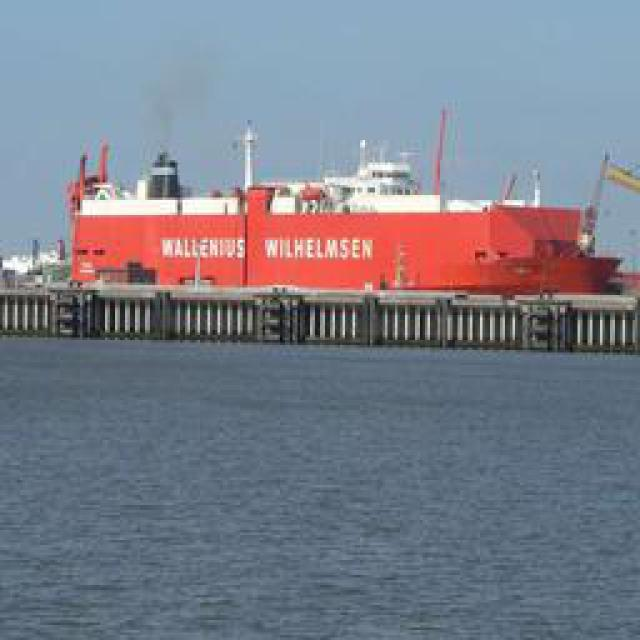Ship: (47, 121, 625, 301)
